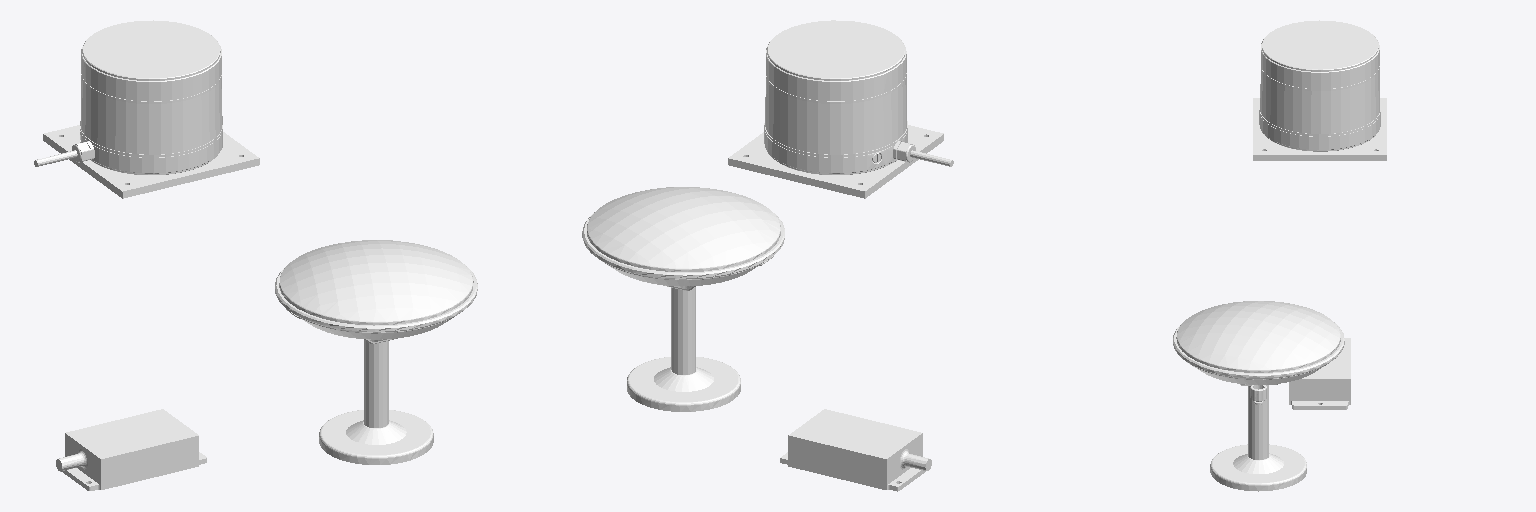
The robot description file, URDF, robot "lvdai_robot_description":
<?xml version="1.0" encoding="utf-8"?>
<!-- This URDF was automatically created by SolidWorks to URDF Exporter! Originally created by [author] ([email redacted]) 
     Commit Version: 1.6.0-1-g15f4949  Build Version: 1.6.7594.29634
     For more information, please see http://wiki.ros.org/sw_urdf_exporter -->
<robot
  name="lvdai_robot_description">
  <link
    name="base_link">
    <inertial>
      <origin
        xyz="-0.1804999449356 -0.00273866649124351 0.091014183904472"
        rpy="0 0 0" />
      <mass
        value="6.17712866957098" />
      <inertia
        ixx="0.0765770429900304"
        ixy="-0.00475183633184437"
        ixz="-0.0139868629226085"
        iyy="0.214900074008021"
        iyz="0.000567250121054698"
        izz="0.220774767228163" />
    </inertial>
    <visual>
      <origin
        xyz="0 0 0"
        rpy="0 0 0" />
      <geometry>
        <mesh
          filename="package://lvdai_robot_description/meshes/base_link.STL" />
      </geometry>
      <material
        name="">
        <color
          rgba="1 1 1 1" />
      </material>
    </visual>
    <collision>
      <origin
        xyz="0 0 0"
        rpy="0 0 0" />
      <geometry>
        <mesh
          filename="package://lvdai_robot_description/meshes/base_link.STL" />
      </geometry>
    </collision>
  </link>
  <link
    name="imu_Link">
    <inertial>
      <origin
        xyz="-0.000688395649958373 -1.73472347597681E-18 0.0127340952341144"
        rpy="0 0 0" />
      <mass
        value="0.128107293639224" />
      <inertia
        ixx="3.90756386120144E-05"
        ixy="1.31655759583977E-21"
        ixz="2.39523915531079E-07"
        iyy="9.57033496454551E-05"
        iyz="-1.59613157475675E-22"
        izz="0.000120070610789786" />
    </inertial>
    <visual>
      <origin
        xyz="0 0 0"
        rpy="0 0 0" />
      <geometry>
        <mesh
          filename="package://lvdai_robot_description/meshes/imu_Link.STL" />
      </geometry>
      <material
        name="">
        <color
          rgba="1 1 1 1" />
      </material>
    </visual>
    <collision>
      <origin
        xyz="0 0 0"
        rpy="0 0 0" />
      <geometry>
        <mesh
          filename="package://lvdai_robot_description/meshes/imu_Link.STL" />
      </geometry>
    </collision>
  </link>
  <joint
    name="imu_Joint"
    type="fixed">
    <origin
      xyz="-0.017 0 0.023"
      rpy="0 0 0" />
    <parent
      link="base_link" />
    <child
      link="imu_Link" />
    <axis
      xyz="0 0 0" />
  </joint>
  <link
    name="GPS_Link">
    <inertial>
      <origin
        xyz="0.000417677297434749 3.42845823302074E-06 -0.0195092891150941"
        rpy="0 0 0" />
      <mass
        value="0.304587557604101" />
      <inertia
        ixx="0.00105278769376815"
        ixy="-6.58791722395924E-09"
        ixz="-3.87048553099503E-07"
        iyy="0.00105754938144068"
        iyz="-1.72919315240756E-08"
        izz="0.000656581063248847" />
    </inertial>
    <visual>
      <origin
        xyz="0 0 0"
        rpy="0 0 0" />
      <geometry>
        <mesh
          filename="package://lvdai_robot_description/meshes/GPS_Link.STL" />
      </geometry>
      <material
        name="">
        <color
          rgba="1 1 1 1" />
      </material>
    </visual>
    <collision>
      <origin
        xyz="0 0 0"
        rpy="0 0 0" />
      <geometry>
        <mesh
          filename="package://lvdai_robot_description/meshes/GPS_Link.STL" />
      </geometry>
    </collision>
  </link>
  <joint
    name="GPS_Joint"
    type="fixed">
    <origin
      xyz="0.165 -0.055 0.14474"
      rpy="0 0 0" />
    <parent
      link="base_link" />
    <child
      link="GPS_Link" />
    <axis
      xyz="0 0 0" />
  </joint>
  <link
    name="Lidar_Link">
    <inertial>
      <origin
        xyz="-0.000789284392422401 6.24637443072985E-05 -0.0347906964430356"
        rpy="0 0 0" />
      <mass
        value="0.350342210135116" />
      <inertia
        ixx="0.000620137445762928"
        ixy="9.27237914490949E-07"
        ixz="-3.7723238657919E-07"
        iyy="0.000636562760168824"
        iyz="6.62101387916197E-08"
        izz="0.00081167598895679" />
    </inertial>
    <visual>
      <origin
        xyz="0 0 0"
        rpy="0 0 0" />
      <geometry>
        <mesh
          filename="package://lvdai_robot_description/meshes/Lidar_Link.STL" />
      </geometry>
      <material
        name="">
        <color
          rgba="1 1 1 1" />
      </material>
    </visual>
    <collision>
      <origin
        xyz="0 0 0"
        rpy="0 0 0" />
      <geometry>
        <mesh
          filename="package://lvdai_robot_description/meshes/Lidar_Link.STL" />
      </geometry>
    </collision>
  </link>
  <joint
    name="Lidar_Joint"
    type="fixed">
    <origin
      xyz="0 0 0.3312"
      rpy="0 0 0" />
    <parent
      link="base_link" />
    <child
      link="Lidar_Link" />
    <axis
      xyz="0 0 0" />
  </joint>
</robot>

--- What the picture shows (computed from the rendered views, not written in the file) ---
Views: 3 orthographic renders of the robot side by side, from view 1: azimuth 30°, elevation 25°; view 2: azimuth 150°, elevation 25°; view 3: azimuth 270°, elevation 25°.
Model lvdai_robot_description with 4 links and 3 joints (3 fixed), rooted at base_link, posed every joint at zero.
Links seen in each view (by area): view 1: Lidar_Link, GPS_Link, imu_Link; view 2: Lidar_Link, GPS_Link, imu_Link; view 3: Lidar_Link, GPS_Link, imu_Link.
Boxes of the visible links, x1,y1,x2,y2 form: Lidar_Link: (34, 20, 259, 198); GPS_Link: (275, 240, 477, 464); imu_Link: (56, 409, 206, 490); Lidar_Link: (728, 20, 953, 198); GPS_Link: (582, 187, 784, 411); imu_Link: (780, 409, 931, 491); Lidar_Link: (1253, 20, 1386, 160); GPS_Link: (1173, 301, 1344, 491); imu_Link: (1289, 338, 1350, 409).
Bounding box of the posed robot: 0.3431 × 0.192 × 0.3437 m (x, y, z).
Meshes: 4 distinct files referenced, 3 mesh visuals loaded (3 binary STL); not drawn: 1 (reference not matched to a file when rendering).
